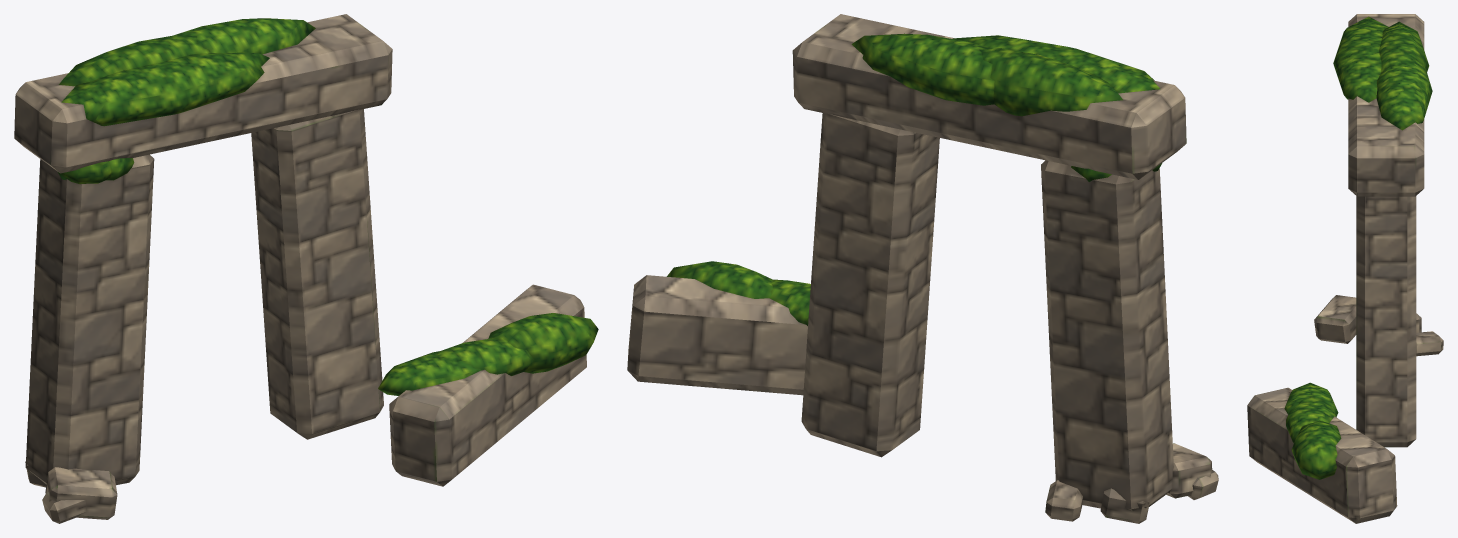
Rendered from mapkit_set_forest.fbx.
3 renders of one model, left to right at view 1: azimuth 30°, elevation 25°; view 2: azimuth 150°, elevation 25°; view 3: azimuth 270°, elevation 25°, orthographic. The views are drawn at different scales.
Visible parts, largest first — view 1: Body; view 2: Body; view 3: Body.
Part boxes in pixels (bbox=[...]): Body: bbox=[14, 14, 598, 523]; Body: bbox=[627, 14, 1218, 523]; Body: bbox=[1247, 14, 1443, 523].
Size of the model in its own units: 1261 by 935 by 491.
Materials: 1 (1 with a texture image).
